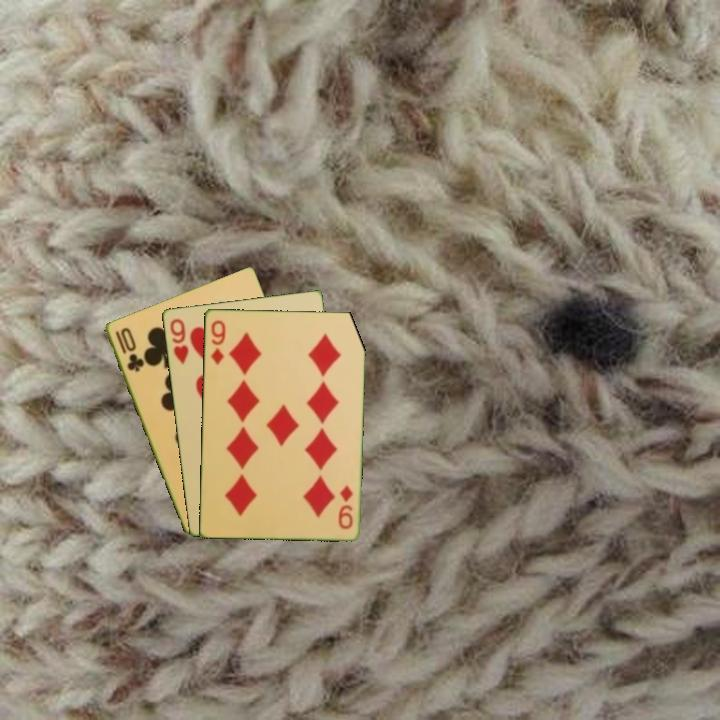10c: (111, 324, 146, 374)
9d: (207, 316, 228, 367), (334, 481, 355, 532)
9h: (166, 315, 191, 366)
